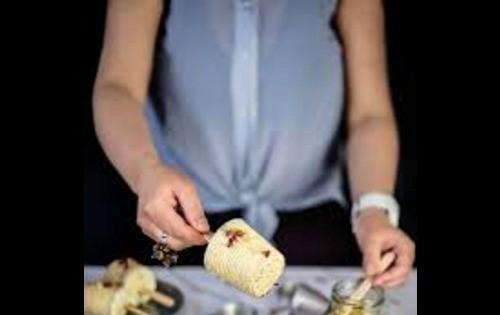Kulfi: (204, 219, 286, 298), (108, 261, 156, 307), (84, 282, 128, 315)
